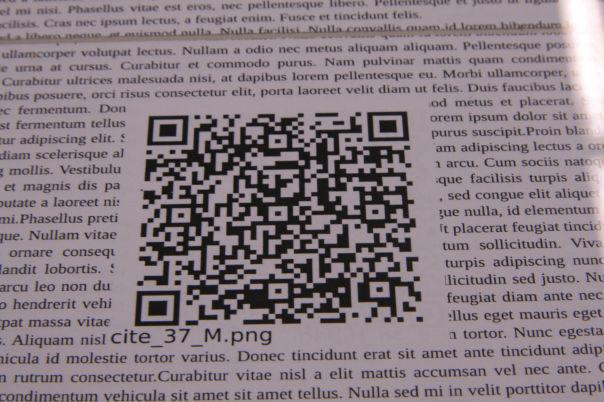Finder pattern: (131, 286, 185, 332), (365, 108, 414, 145), (144, 112, 193, 148)
